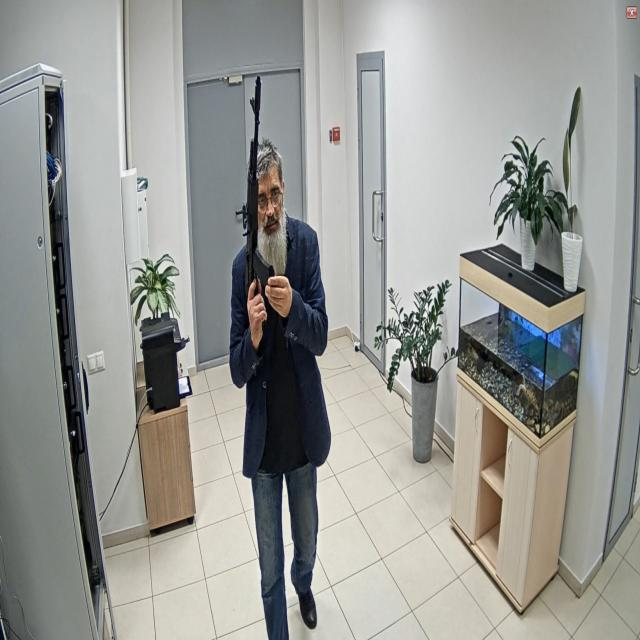-Gun: (246, 74, 275, 296)
